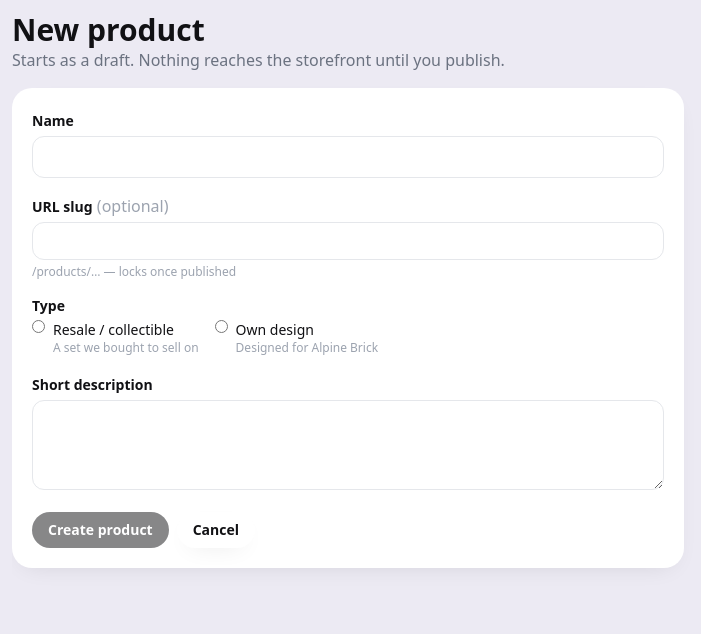
Scenario: ProductForm › keeps accessible names intact when name and slug errors are both shown
Type "Castle Set" into the field labelled "Name" at x=348, y=157, box [32,136,664,178]
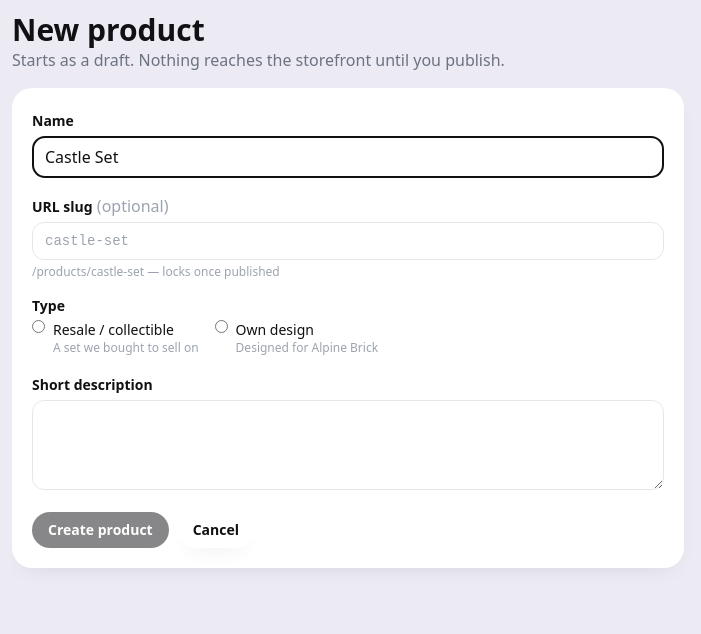
Click the radio button labelled "Resale / collectible A set we bought to sell on" at x=38, y=326, box [32,320,45,333]
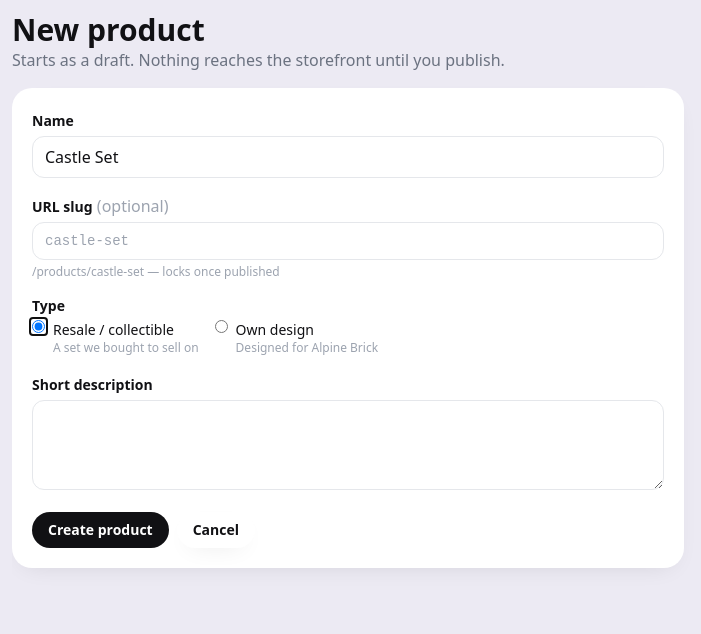
Click the button "Create product" at x=100, y=530, box [32,512,169,548]
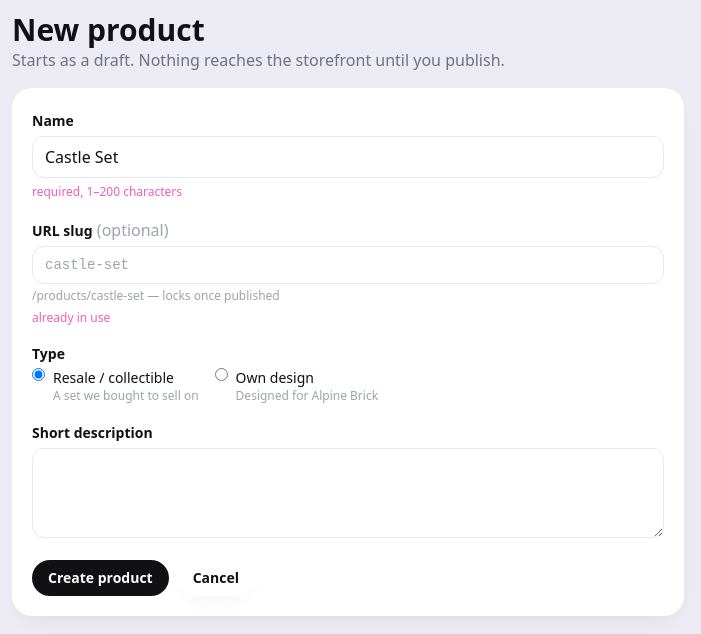
Expected: the field labelled "URL slug" is shown, [32,246,664,284]
Now the text "required, 1–200 characters" is shown, box [32,183,182,200]
Now the text "already in use" is shown, box [32,309,110,326]
